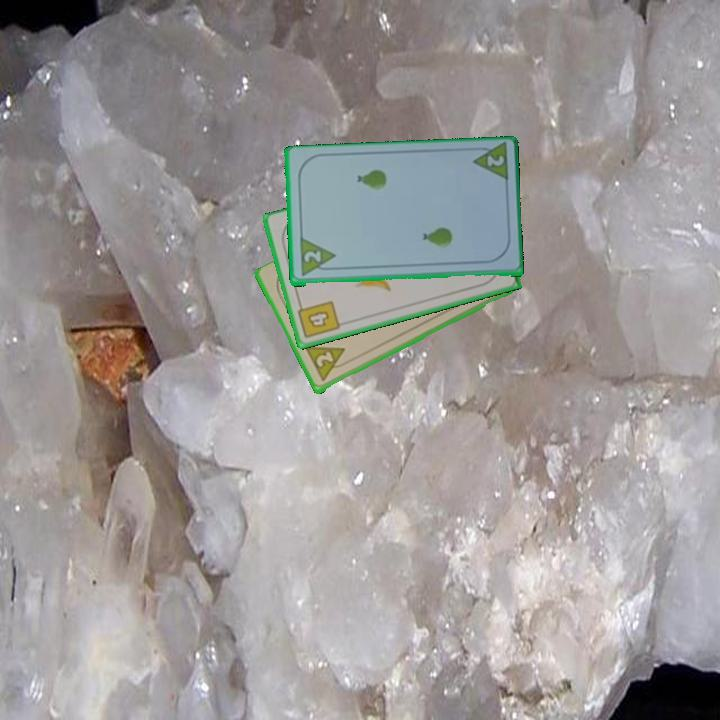2p: (302, 343, 353, 385), (300, 248, 324, 266), (483, 152, 507, 170)
4b: (294, 297, 343, 342)
